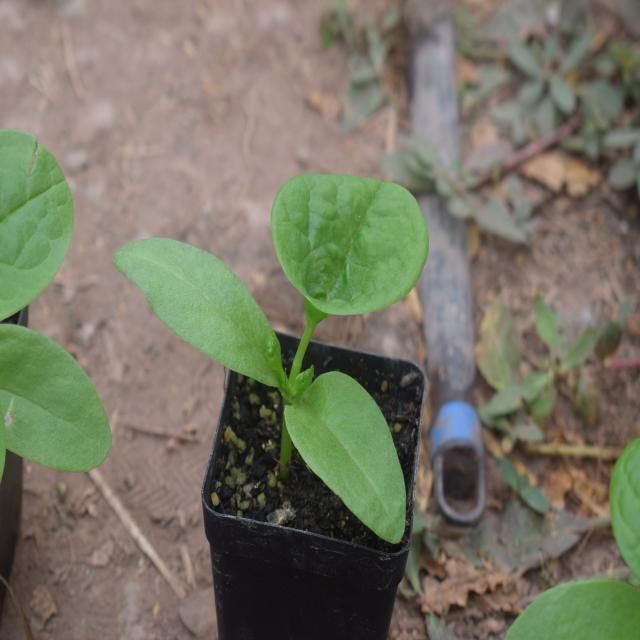Ceylon spinach: (130, 165, 440, 546)
